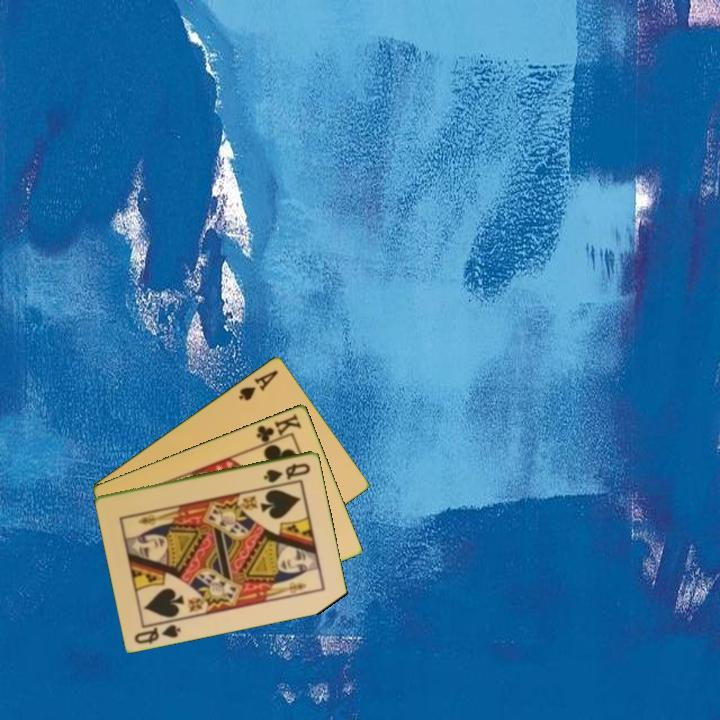As: (235, 366, 281, 403)
Kc: (253, 409, 304, 449)
Qs: (260, 459, 314, 485), (131, 620, 184, 646)
